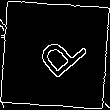P_SW: (23, 24, 87, 86)
